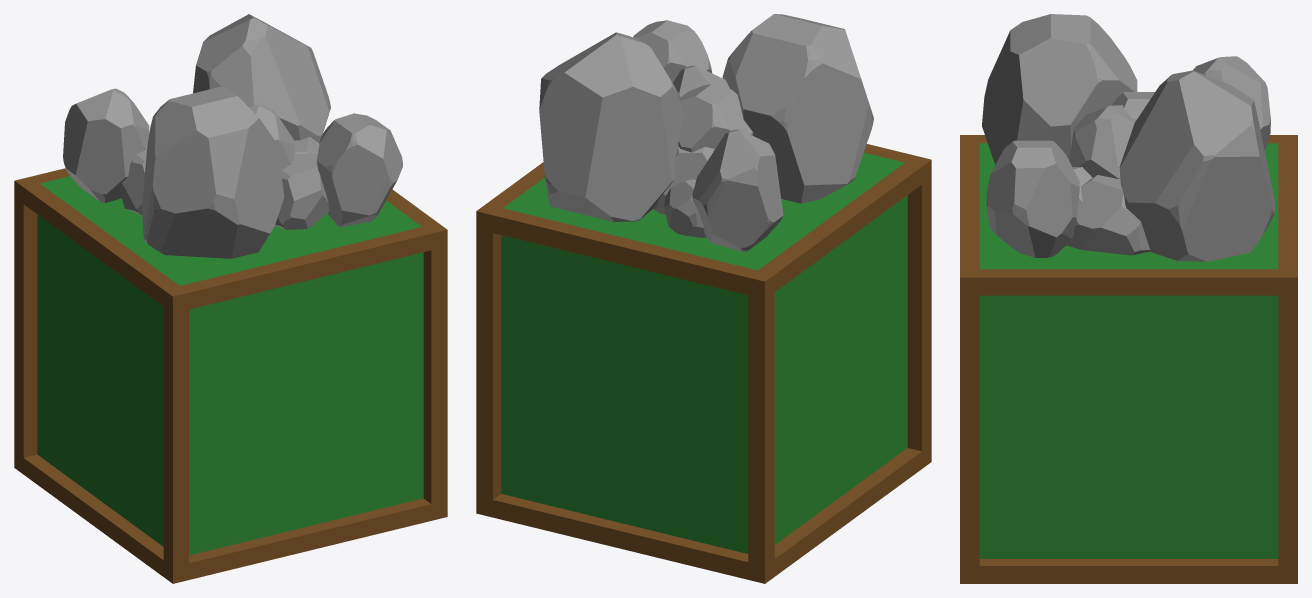
Rendered from Rocks_1.fbx.
3 renders of one model, left to right at view 1: azimuth 30°, elevation 25°; view 2: azimuth 150°, elevation 25°; view 3: azimuth 270°, elevation 25°, orthographic. The views are drawn at different scales.
Parts seen in each view (by area): view 1: Circle.003; view 2: Circle.003; view 3: Circle.003.
Part boxes in pixels (<box>): Circle.003: <box>14,14,447,583</box>; Circle.003: <box>476,14,931,583</box>; Circle.003: <box>960,14,1297,583</box>.
Bounding box in the file's own units: 200 × 306 × 200.
